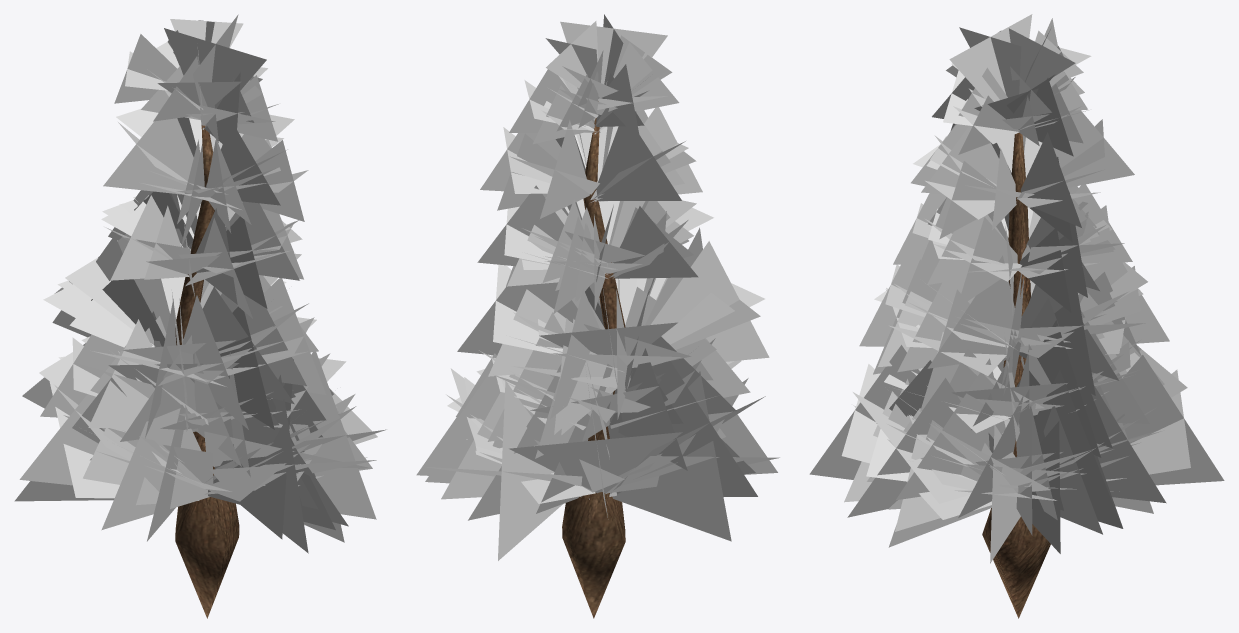
The picture shows the model from 3 angles, left to right: view 1: azimuth 30°, elevation 25°; view 2: azimuth 150°, elevation 25°; view 3: azimuth 270°, elevation 25°; orthographic projection.
Visible parts, largest first — view 1: tree_LOD0; view 2: tree_LOD0; view 3: tree_LOD0.
Boxes of the visible parts, x1=… form: tree_LOD0: x1=14, y1=14, x2=386, y2=618; tree_LOD0: x1=416, y1=14, x2=779, y2=618; tree_LOD0: x1=809, y1=14, x2=1224, y2=618.
Size of what is drawn, in the model's own units: 1323 by 2376 by 1510.
